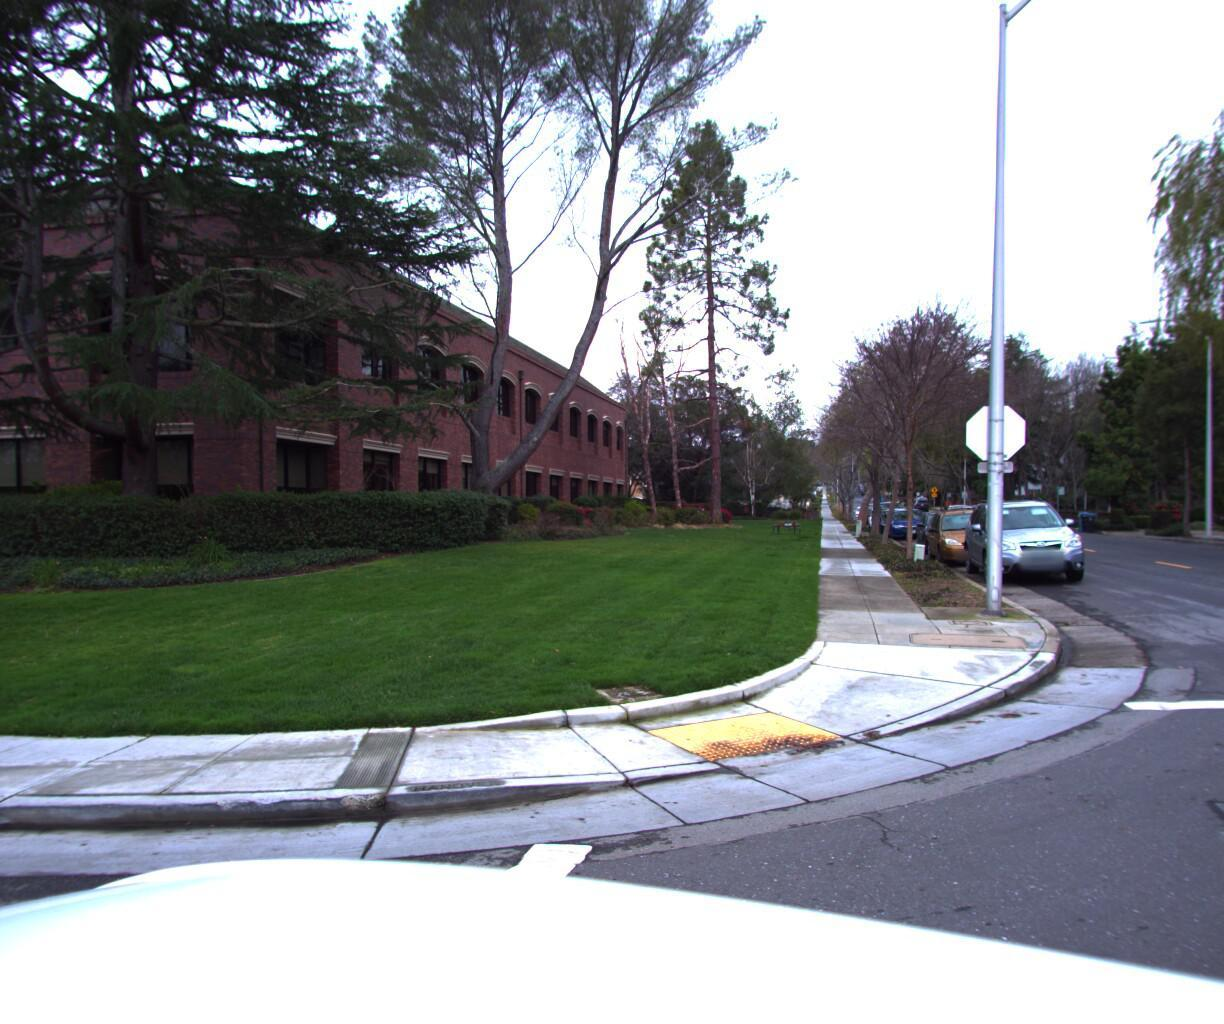car: (951, 493, 1088, 592), (917, 505, 1004, 571), (908, 511, 981, 558), (878, 510, 927, 542), (1222, 504, 1224, 537)
